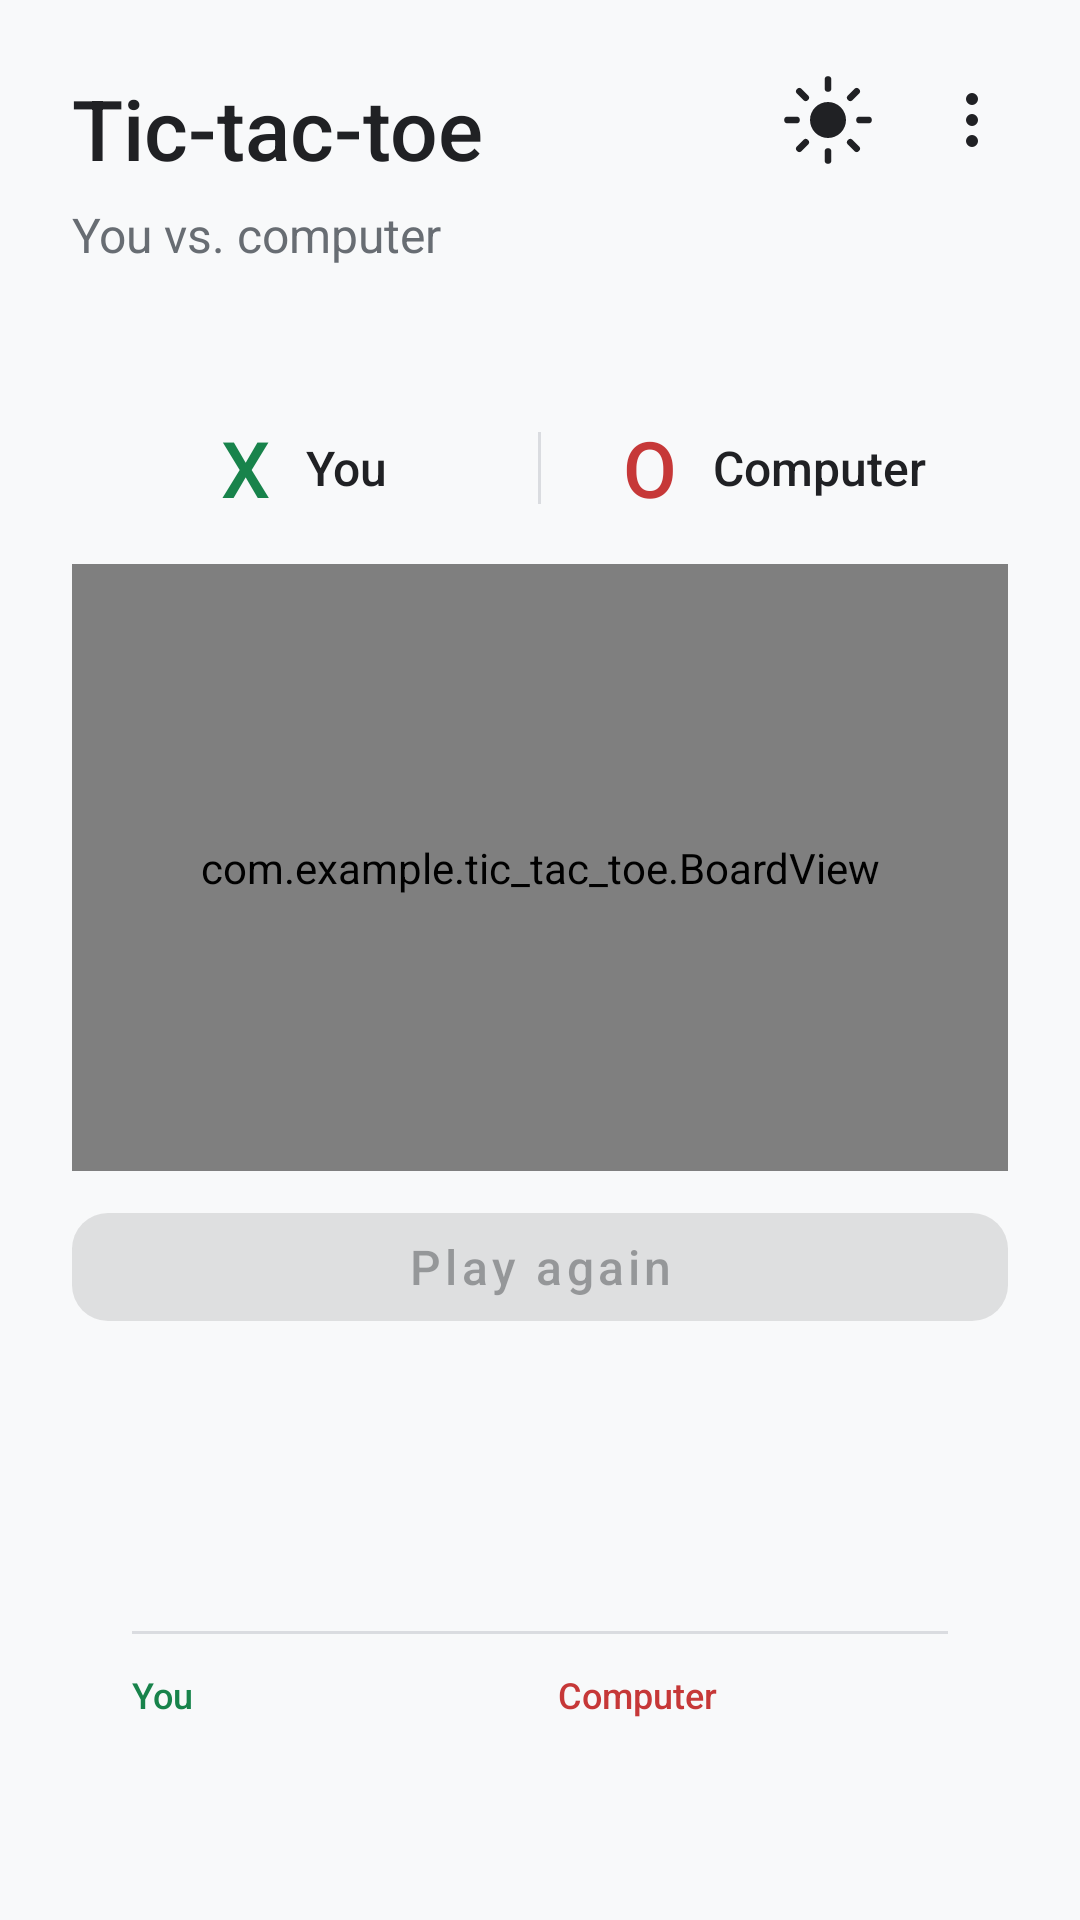

Screen size 1080px x 1920px. Icon name, then its box in pixels as (x1,y1,x2,y2):
More options: (966,93,978,147)
Switch to dark mode: (784,76,872,164)
